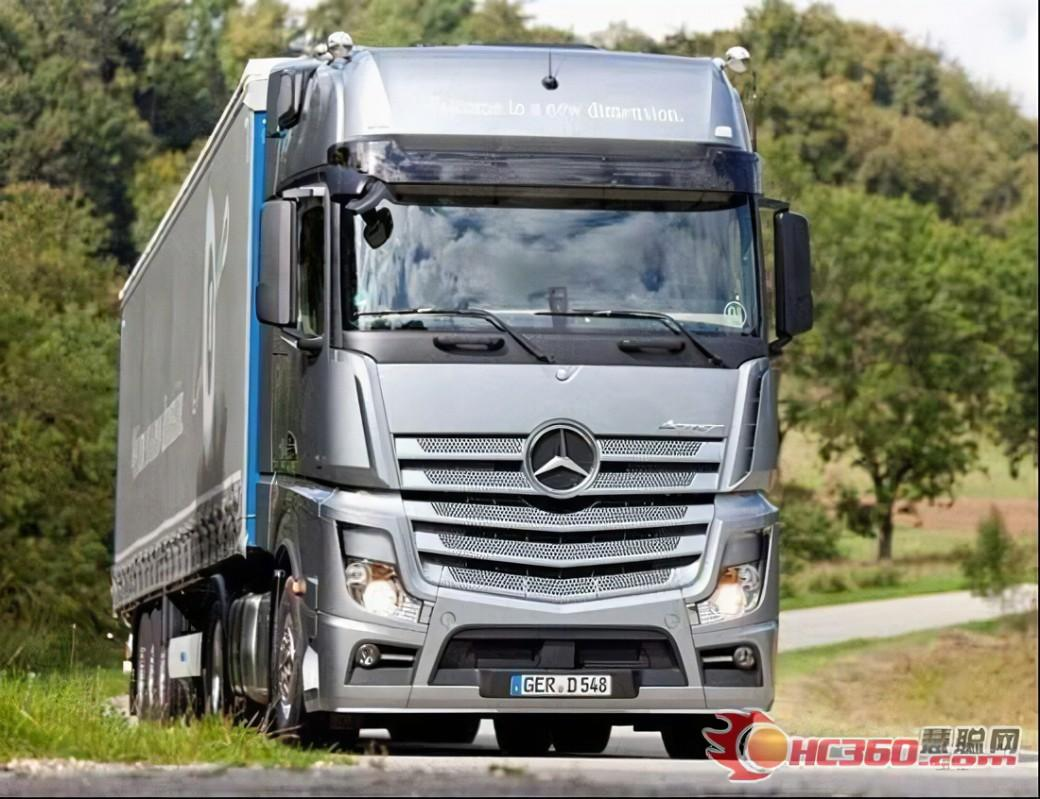truck: (86, 21, 805, 748)
